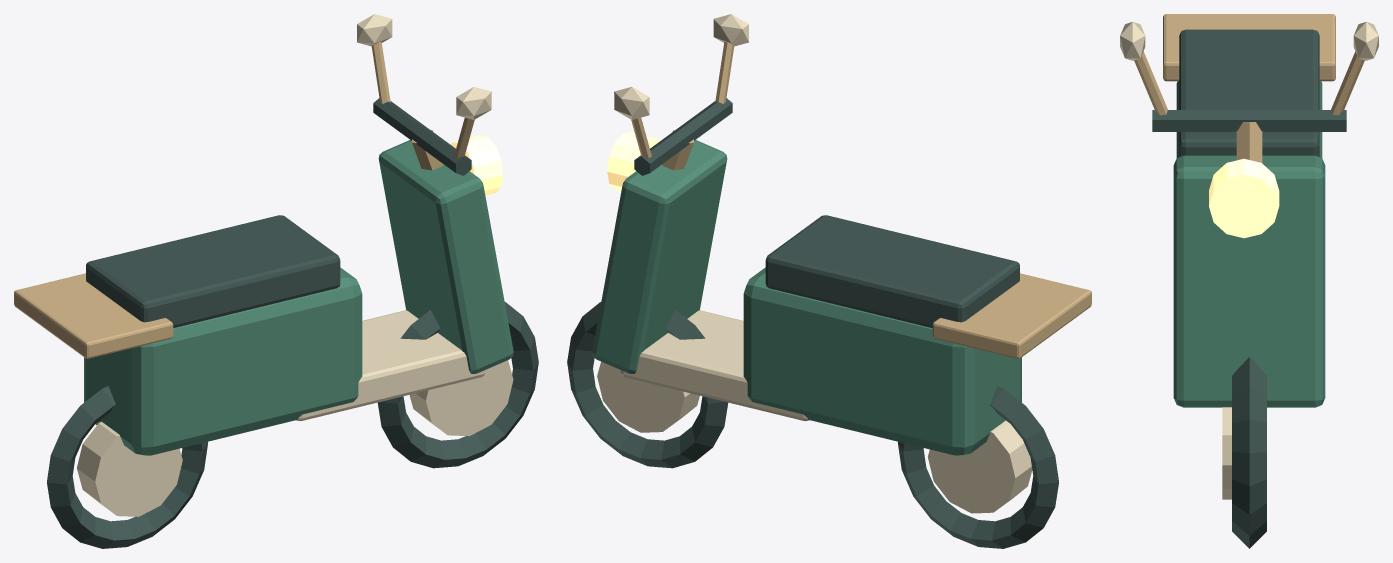
The model's file is tpe5_parked_scooter.glb.
3 renders of one model, left to right at view 1: azimuth 30°, elevation 25°; view 2: azimuth 150°, elevation 25°; view 3: azimuth 270°, elevation 25°, orthographic. The views are drawn at different scales.
Parts seen in each view (by area): view 1: tpe5_parked_scooter__tpe5-street-jade, tpe5_parked_scooter__tpe5-street-ink, tpe5_parked_scooter__tpe5-street-ivory, tpe5_parked_scooter__tpe5-street-brass, tpe5_parked_scooter__tpe5-emissive-street-warm; view 2: tpe5_parked_scooter__tpe5-street-jade, tpe5_parked_scooter__tpe5-street-ink, tpe5_parked_scooter__tpe5-street-ivory, tpe5_parked_scooter__tpe5-street-brass, tpe5_parked_scooter__tpe5-emissive-street-warm; view 3: tpe5_parked_scooter__tpe5-street-jade, tpe5_parked_scooter__tpe5-street-ink, tpe5_parked_scooter__tpe5-street-brass, tpe5_parked_scooter__tpe5-emissive-street-warm, tpe5_parked_scooter__tpe5-street-ivory.
Part boxes in pixels (bbox=[...]): tpe5_parked_scooter__tpe5-street-jade: bbox=[84, 140, 513, 455]; tpe5_parked_scooter__tpe5-street-ink: bbox=[47, 98, 538, 548]; tpe5_parked_scooter__tpe5-street-ivory: bbox=[77, 14, 513, 516]; tpe5_parked_scooter__tpe5-street-brass: bbox=[14, 41, 474, 358]; tpe5_parked_scooter__tpe5-emissive-street-warm: bbox=[450, 135, 503, 195]; tpe5_parked_scooter__tpe5-street-jade: bbox=[592, 140, 1021, 455]; tpe5_parked_scooter__tpe5-street-ink: bbox=[567, 98, 1058, 548]; tpe5_parked_scooter__tpe5-street-ivory: bbox=[597, 14, 1032, 513]; tpe5_parked_scooter__tpe5-street-brass: bbox=[631, 41, 1091, 358]; tpe5_parked_scooter__tpe5-emissive-street-warm: bbox=[607, 132, 659, 190]; tpe5_parked_scooter__tpe5-street-jade: bbox=[1173, 81, 1325, 407]; tpe5_parked_scooter__tpe5-street-ink: bbox=[1152, 29, 1346, 548]; tpe5_parked_scooter__tpe5-street-brass: bbox=[1134, 14, 1364, 162]; tpe5_parked_scooter__tpe5-emissive-street-warm: bbox=[1209, 158, 1279, 238]; tpe5_parked_scooter__tpe5-street-ivory: bbox=[1120, 21, 1378, 499].
Bounding box in the file's own units: 2.47 × 2.04 × 0.9576.
